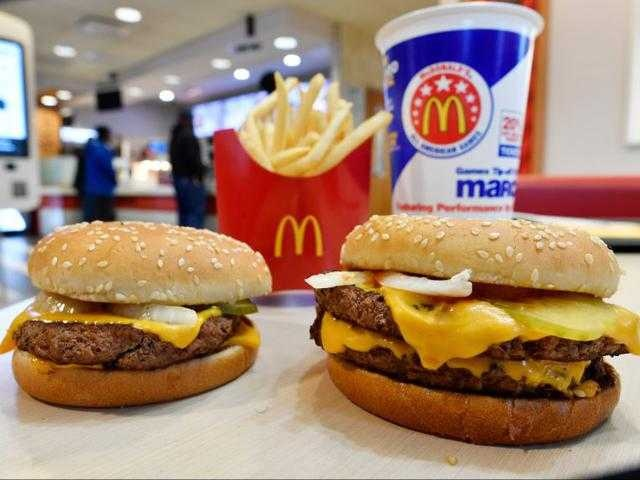hamburger: (306, 205, 632, 440), (5, 221, 277, 399)
